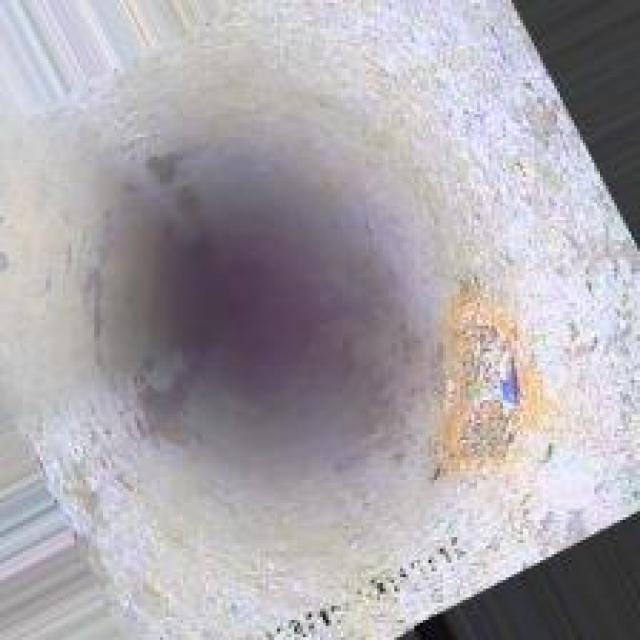ferrule: (429, 277, 540, 469)
